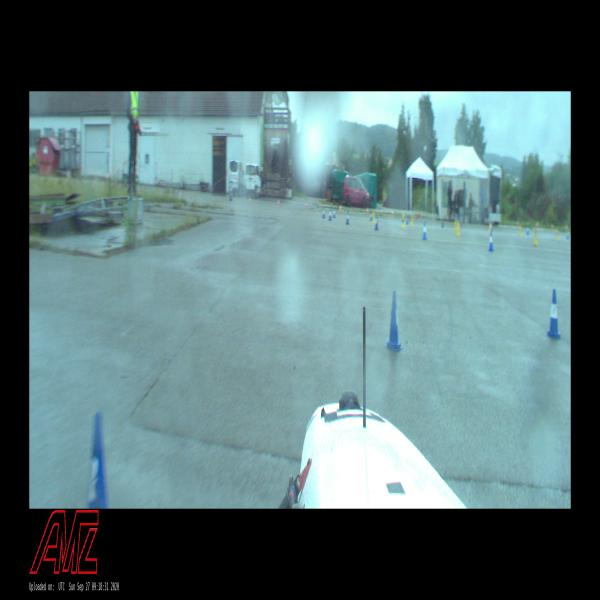blue_cone: (87, 414, 110, 508), (385, 291, 403, 351), (547, 289, 561, 339), (422, 221, 427, 240), (489, 230, 493, 251), (374, 214, 379, 230), (322, 208, 325, 219), (329, 210, 332, 220), (346, 214, 349, 224), (526, 226, 529, 235), (333, 209, 336, 218), (370, 212, 372, 220)
yellow_cone: (534, 230, 537, 245), (456, 222, 459, 236), (372, 212, 375, 222), (402, 215, 404, 228), (556, 230, 558, 240), (519, 227, 521, 235)
